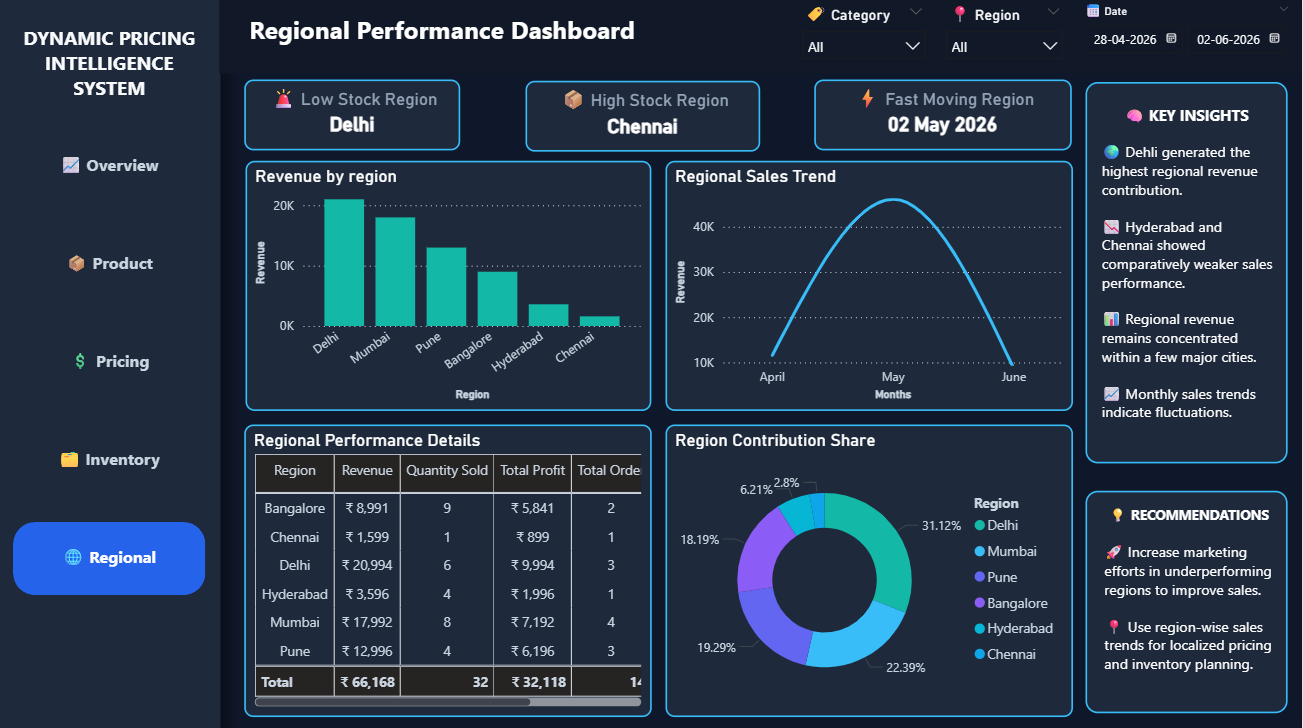

The dashboard page shown, as its layout file describes it:
{"tool":"powerbi","page":{"name":"🌐 Regional","canvas":[1280,720],"ordinal":4},"visuals":[{"type":"card","title":"🚨 Low Stock Region","fields":{"Values":["sales.Best Region"]},"box":[241.7,81,212.3,69.9],"z":0},{"type":"card","title":"📦 High Stock Region","fields":{"Values":["sales.Weakest Region"]},"box":[517.8,82.2,230.7,69.9],"z":1000},{"type":"card","title":"⚡ Fast Moving Region","fields":{"Values":["sales.Highest Sales Day"]},"box":[801.2,81,252.8,69.9],"z":2000},{"type":"clusteredColumnChart","fields":{"Category":["sales.region"],"Y":["sales.Revenue"]},"box":[242.9,160.7,398.8,245.4],"z":3000},{"type":"lineChart","title":"Regional Sales Trend","fields":{"Category":["dates.Date.Variation.Date Hierarchy.Month","dates.Date.Variation.Date Hierarchy.Day"],"Y":["sales.Revenue"]},"box":[655.2,160.7,400,245.4],"z":4000},{"type":"donutChart","title":"Region Contribution Share","fields":{"Category":["sales.region"],"Y":["sales.Total Profit"]},"box":[655.2,419.6,400,287.1],"z":5000},{"type":"tableEx","title":"Regional Performance Details","fields":{"Values":["sales.region","sales.Revenue","Sum(sales.quantitySold)","sales.Total Profit","sales.Total Order","sales.Regional Performance"]},"box":[241.7,419.6,400,287.1],"z":6000},{"type":"textbox","box":[0,0,218.4,720.2],"z":7000},{"type":"pageNavigator","box":[14.9,131.9,189.1,456.5],"z":8000},{"type":"textbox","box":[14.9,22.4,189.1,88.3],"z":9000},{"type":"textbox","box":[217.2,0,1062.6,75],"z":10000},{"type":"textbox","box":[241.7,11,440.5,50.3],"z":11000},{"type":"slicer","fields":{"Values":["category.categoryName"]},"box":[779.1,0,141.1,72.4],"z":12000},{"type":"slicer","fields":{"Values":["sales.region"]},"box":[920.3,0,135,72.4],"z":13000},{"type":"slicer","fields":{"Values":["dates.Date"]},"box":[1054,0,225.8,72.4],"z":14000},{"type":"textbox","box":[1067.5,83.4,198.8,374.2],"z":15000},{"type":"textbox","box":[1078.5,137.4,181.6,312.9],"z":16000},{"type":"textbox","box":[1100.6,100.6,137.4,30.7],"z":17000},{"type":"textbox","box":[1067.5,484.7,198.8,218.4],"z":18000},{"type":"textbox","box":[1081,494.5,175.5,35.6],"z":19000},{"type":"textbox","box":[1081,530.1,181.6,157.1],"z":20000}]}

Visuals, with their boxes on the page's 1280x720 design canvas (x1, y1, x2, y2). These are canvas units, not pixel positions in the 1303x728 screenshot, which may show the page scaled, cropped or inside an application window:
"🚨 Low Stock Region" card: 242,81,454,151
"📦 High Stock Region" card: 518,82,748,152
"⚡ Fast Moving Region" card: 801,81,1054,151
clusteredColumnChart - sales.region x sales.Revenue: 243,161,642,406
"Regional Sales Trend" lineChart: 655,161,1055,406
"Region Contribution Share" donutChart: 655,420,1055,707
"Regional Performance Details" tableEx: 242,420,642,707
textbox: 0,0,218,720
pageNavigator: 15,132,204,588
textbox: 15,22,204,111
textbox: 217,0,1280,75
textbox: 242,11,682,61
slicer - category.categoryName: 779,0,920,72
slicer - sales.region: 920,0,1055,72
slicer - dates.Date: 1054,0,1280,72
textbox: 1068,83,1266,458
textbox: 1078,137,1260,450
textbox: 1101,101,1238,131
textbox: 1068,485,1266,703
textbox: 1081,494,1256,530
textbox: 1081,530,1263,687
